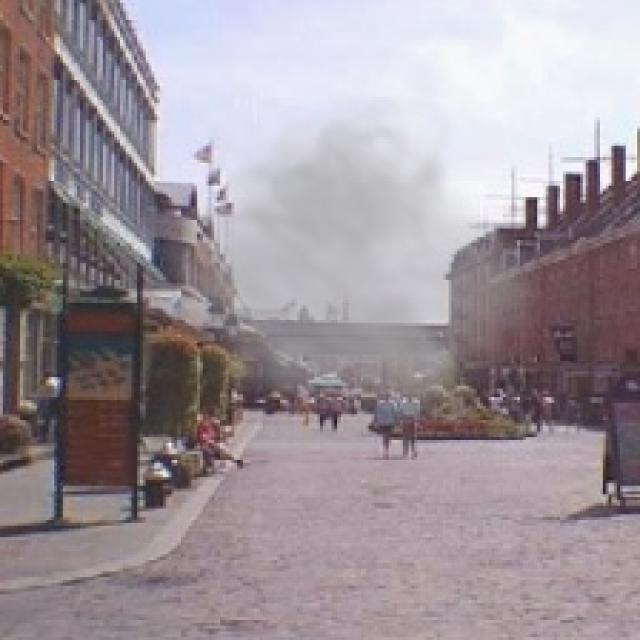smoke: (146, 80, 554, 423)
